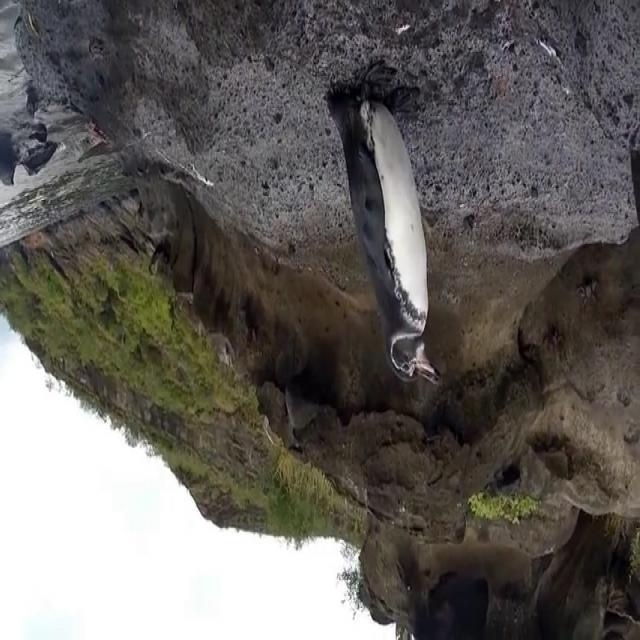penguin: (324, 59, 444, 386)
